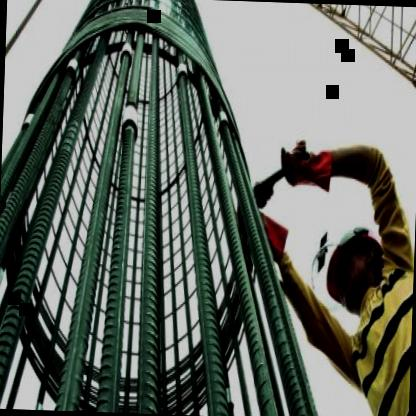helmet: (313, 181, 390, 314)
